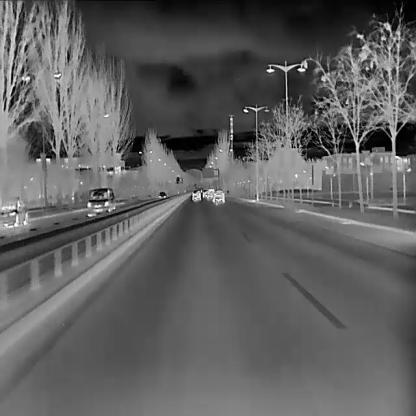car: (0, 194, 31, 228), (85, 185, 116, 217), (211, 188, 224, 202), (191, 188, 201, 200), (206, 186, 215, 199), (158, 190, 167, 199), (203, 189, 208, 198)
